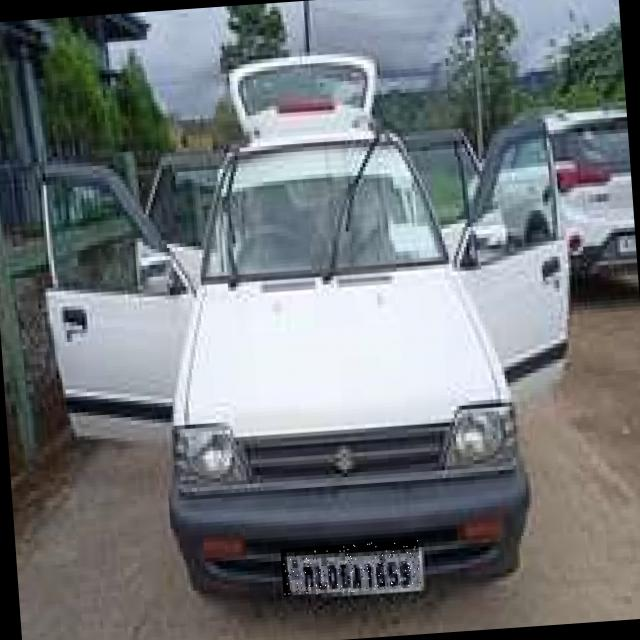Plate: (281, 540, 422, 597)
